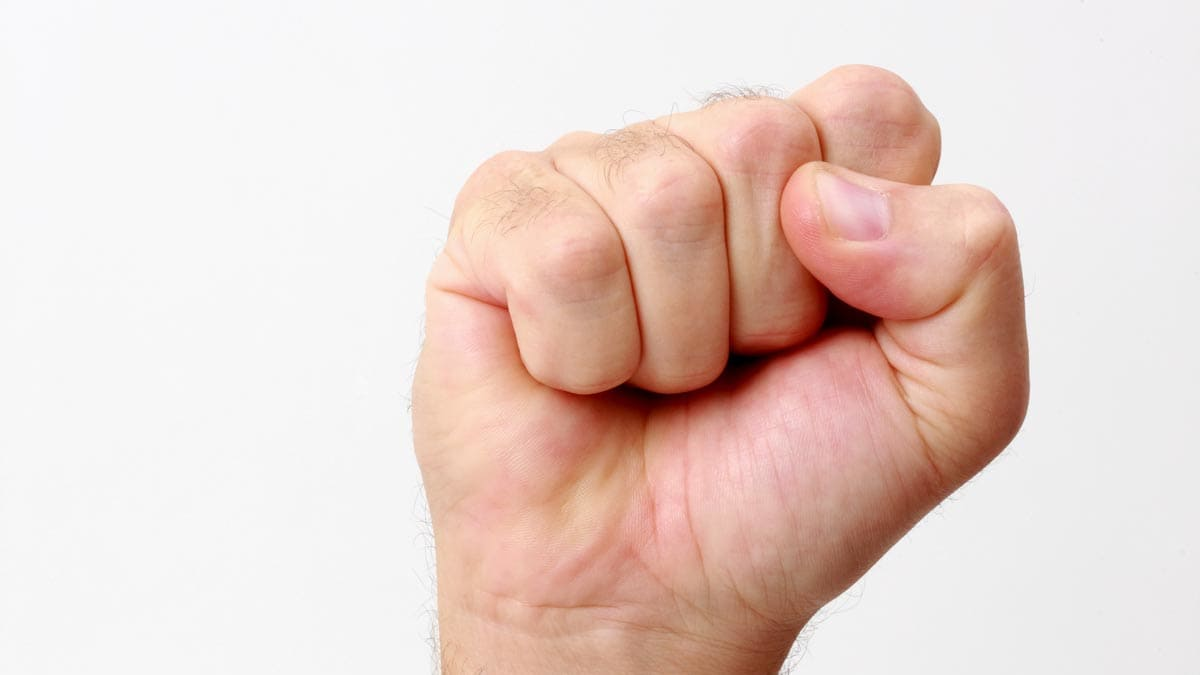fist: (393, 54, 1043, 654)
